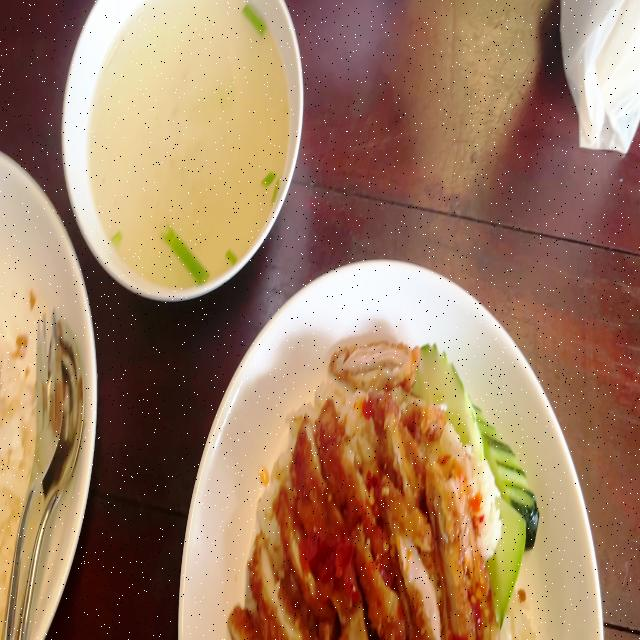chicken_rice: (232, 327, 546, 640)
cucumber: (466, 398, 544, 618), (412, 338, 485, 468)
fried_chicken: (236, 340, 483, 640)
